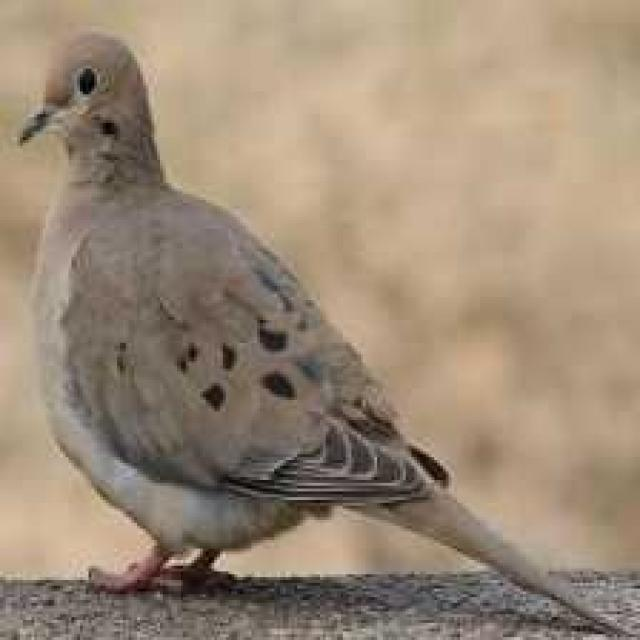bird: (6, 21, 640, 640)
